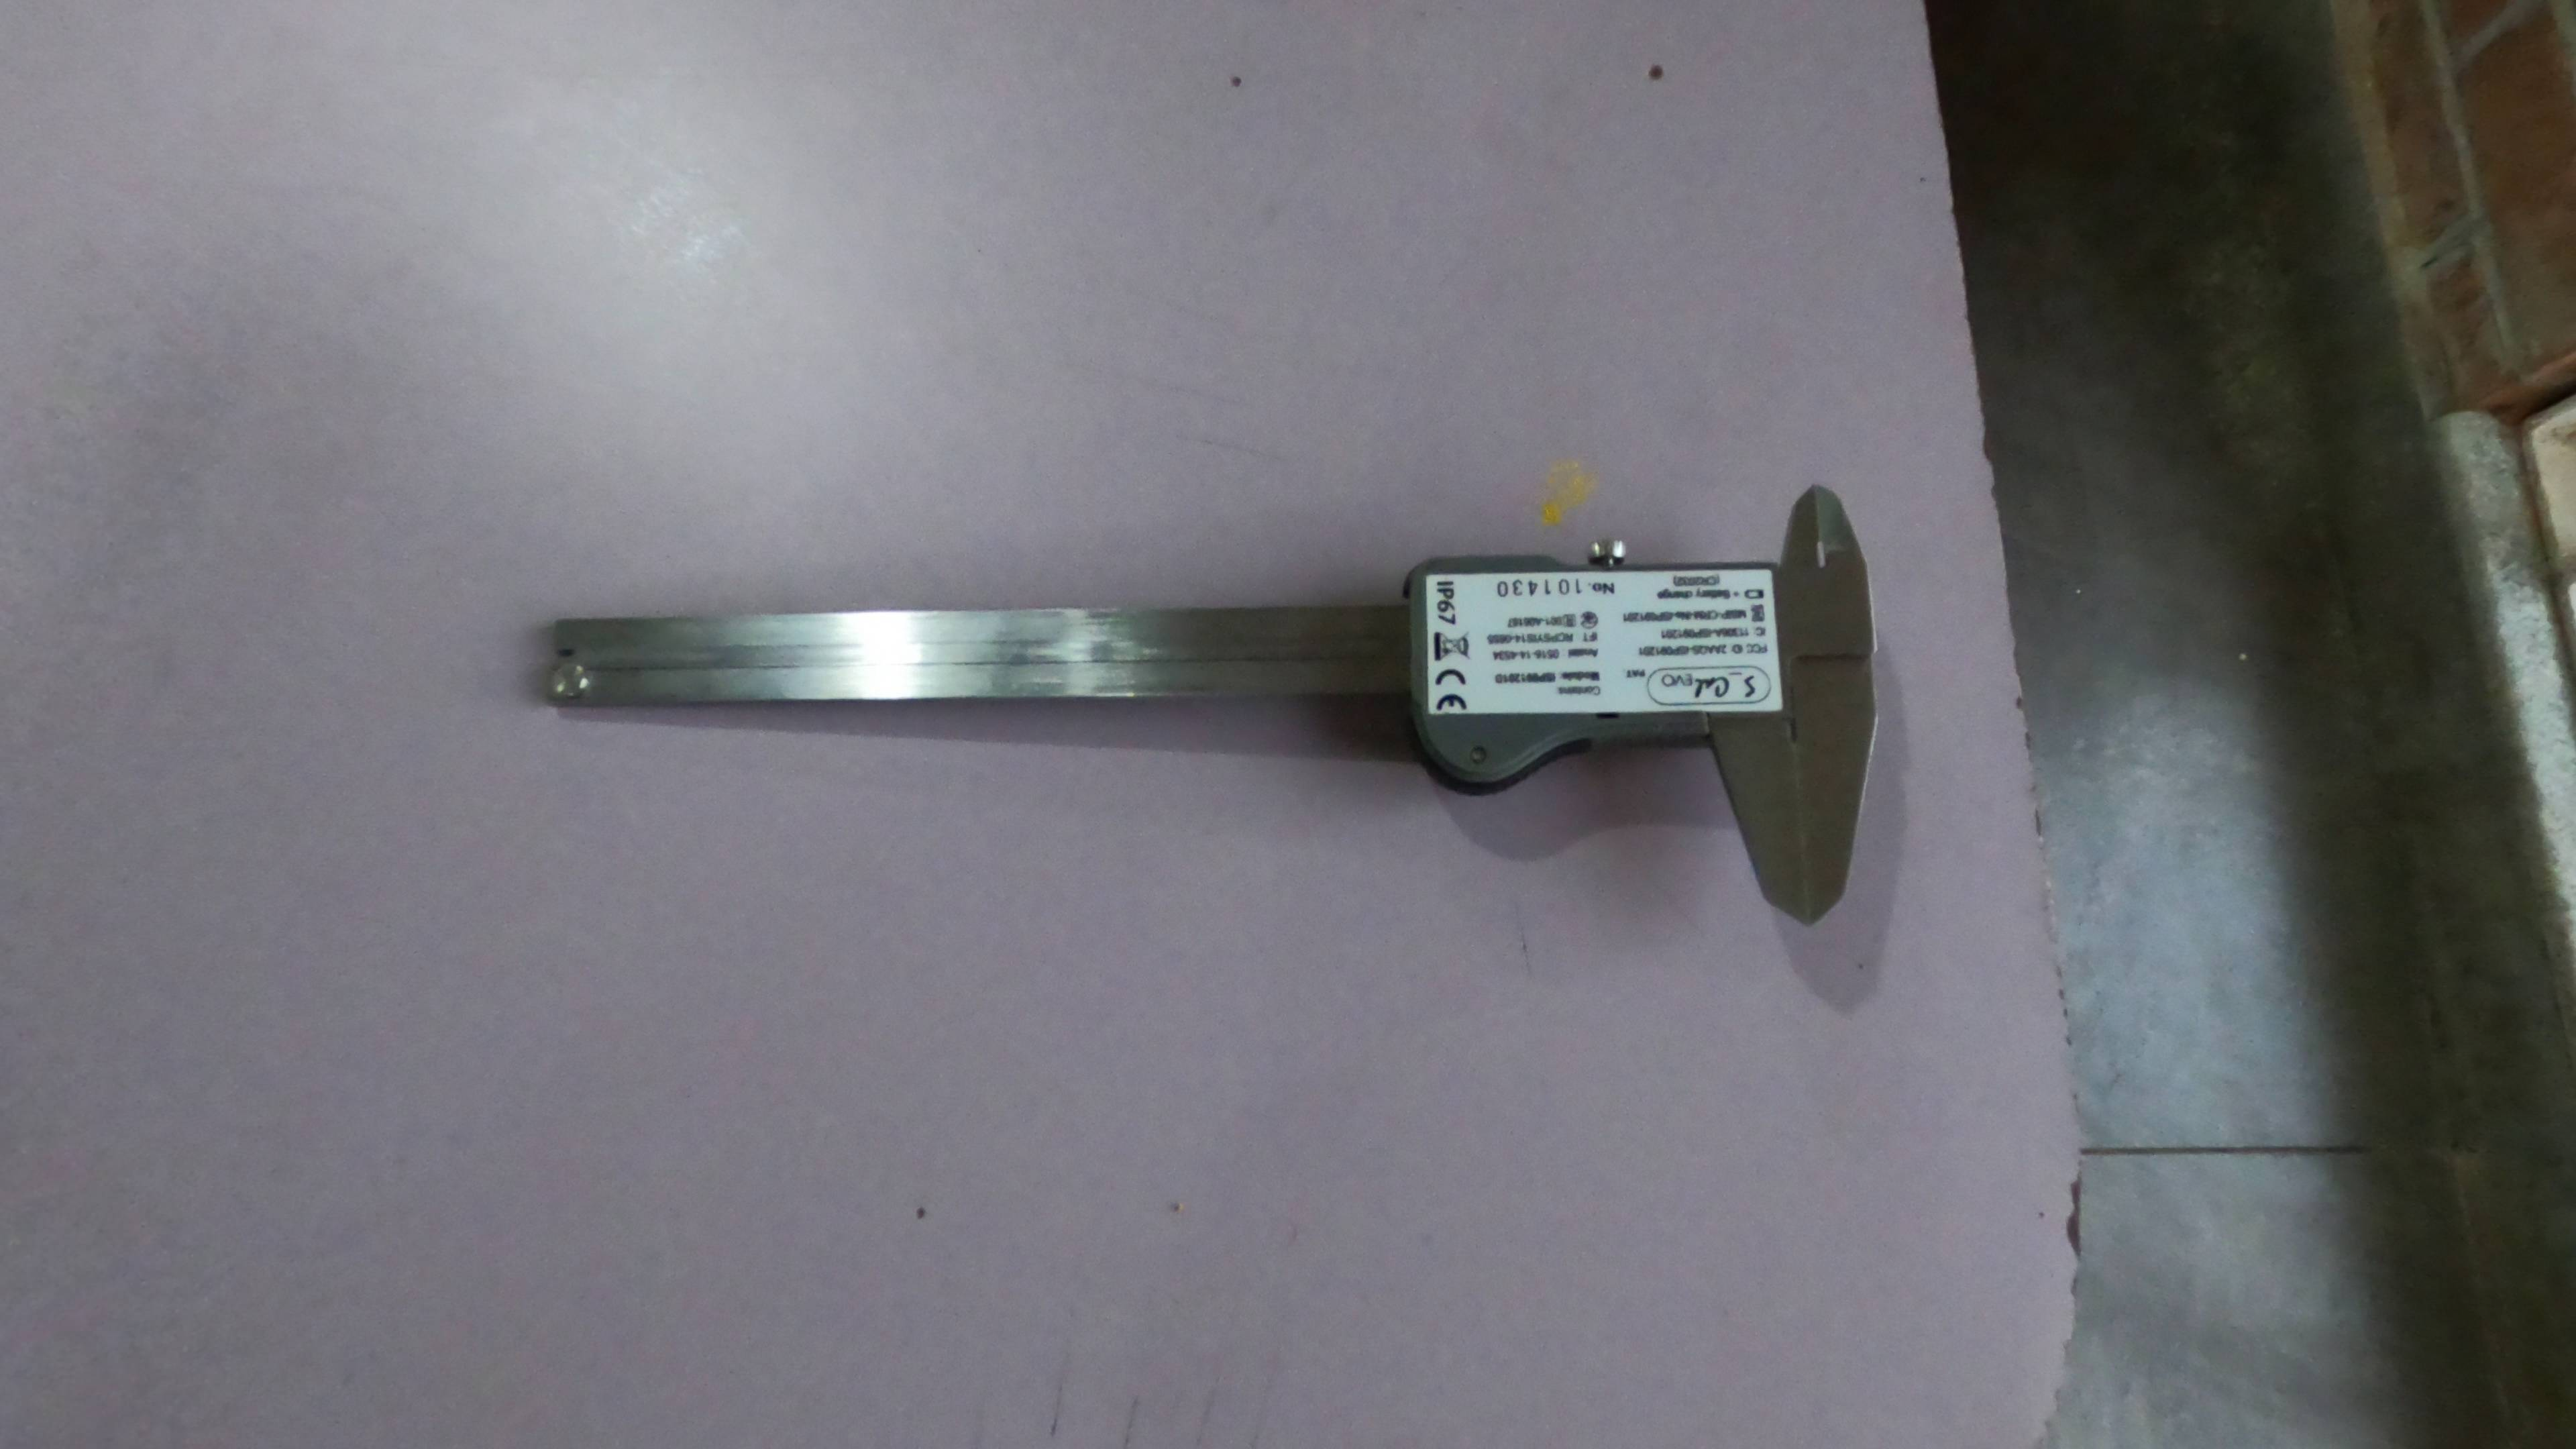vernier_caliper: (534, 487, 1895, 927)
